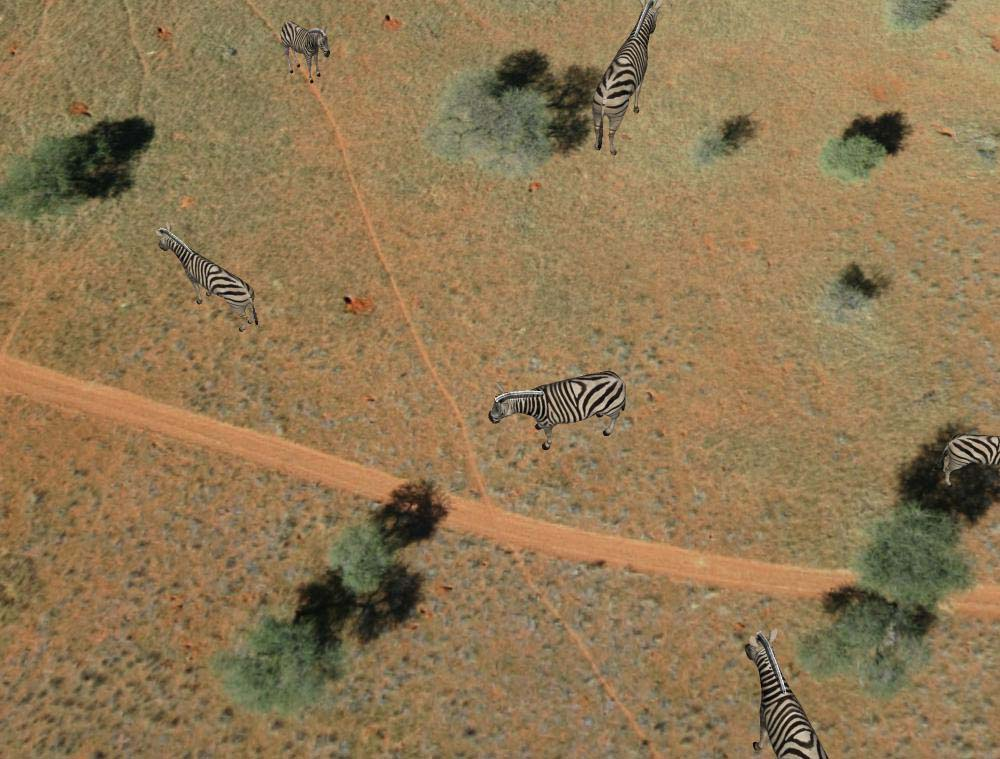zebra: (150, 219, 264, 337), (742, 616, 829, 759), (586, 1, 666, 156), (488, 367, 634, 451), (274, 19, 333, 88), (939, 427, 1000, 489)
